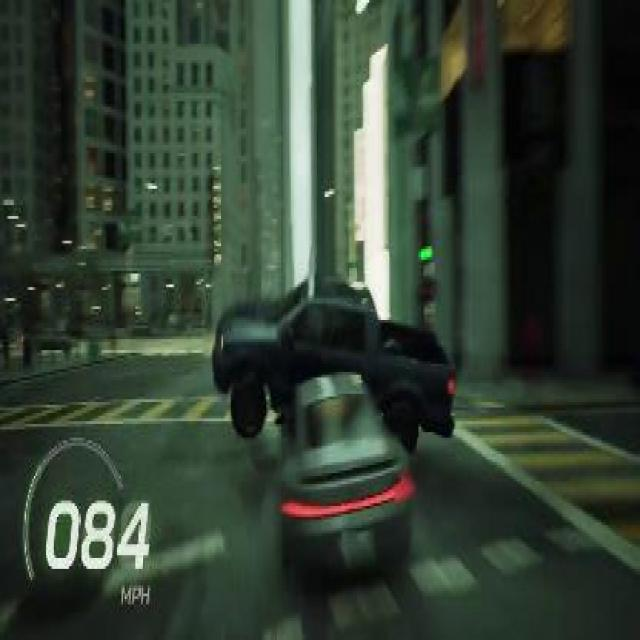accident: (211, 263, 458, 599)
